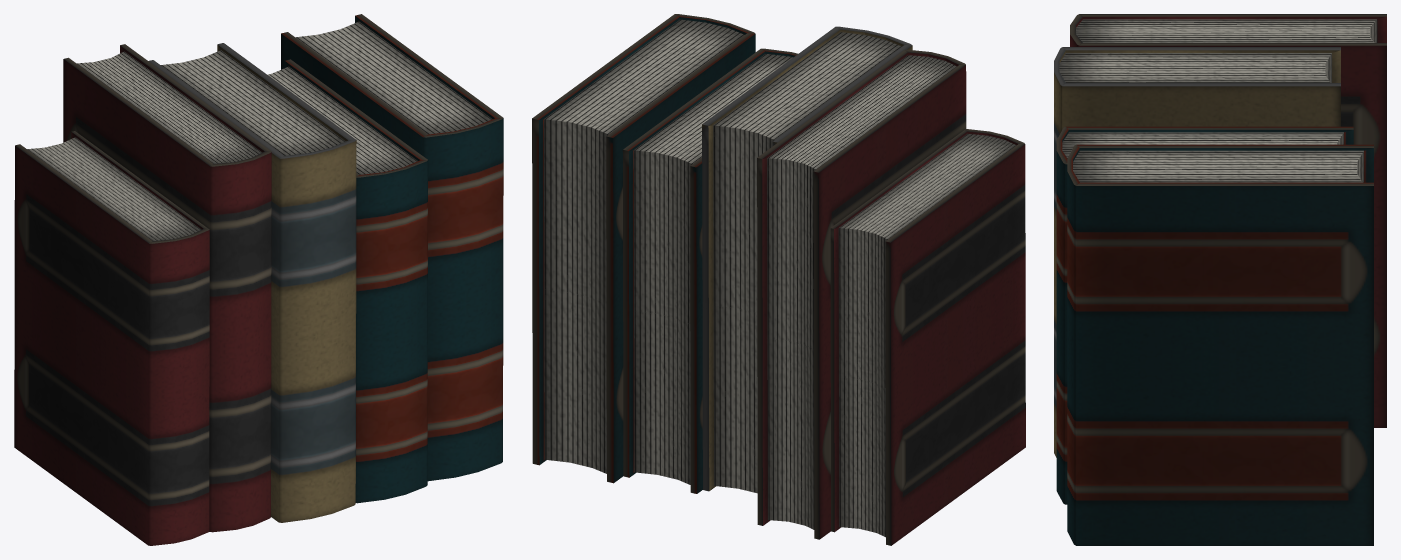
The model's file is CI_065_books.glb.
The picture shows the model from 3 angles, left to right: view 1: azimuth 30°, elevation 25°; view 2: azimuth 150°, elevation 25°; view 3: azimuth 270°, elevation 25°; orthographic projection. The views are drawn at different scales.
Visible parts, largest first — view 1: book_3, book_2, book_1, book_4, book_5; view 2: book_3, book_4, book_2, book_5, book_1; view 3: book_4, book_1, book_2, book_5.
Boxes of the visible parts, x1,y1,x2,y2 form: book_3: (14,131,209,545); book_2: (63,44,271,532); book_1: (148,43,356,522); book_4: (281,14,503,481); book_5: (267,59,428,503); book_3: (830,129,1025,545); book_4: (532,14,755,483); book_2: (757,49,966,539); book_5: (622,48,797,493); book_1: (702,26,912,493); book_4: (1067,144,1373,545); book_1: (1054,47,1340,457); book_2: (1070,14,1386,427); book_5: (1056,126,1353,504).
Size of the model in its own units: 0.7539 by 0.7468 by 0.5884.
Materials: 1 (1 with a texture image).
